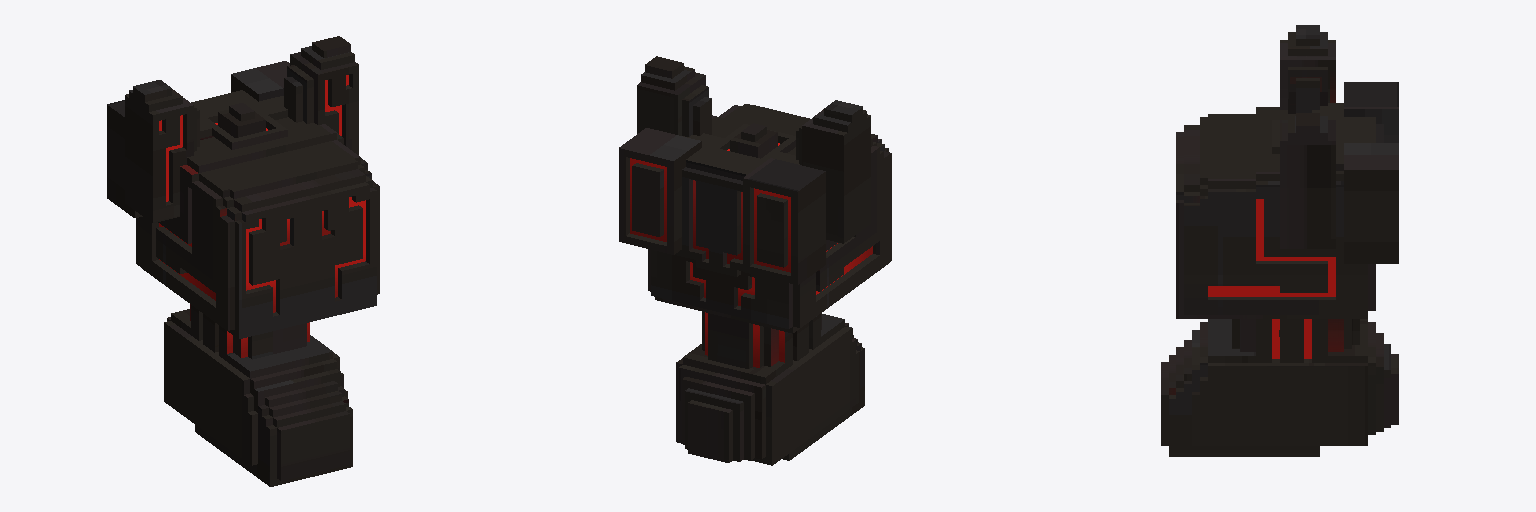
The picture shows the model from 3 angles: view 1: azimuth 30°, elevation 25°; view 2: azimuth 150°, elevation 25°; view 3: azimuth 270°, elevation 25°; orthographic projection.
Parts seen in each view (by area): view 1: Mech_-_Hovertime-5; view 2: Mech_-_Hovertime-5; view 3: Mech_-_Hovertime-5.
Boxes of the visible parts, <box> form: Mech_-_Hovertime-5: <box>107,36,379,486</box>; Mech_-_Hovertime-5: <box>619,56,891,465</box>; Mech_-_Hovertime-5: <box>1161,25,1398,456</box>.
Bounding box in the file's own units: 3 × 5 × 3.
1 materials, 1 textured.